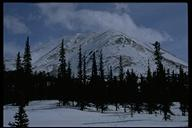cloud: (44, 7, 144, 24)
mountain: (69, 24, 151, 50)
snow: (36, 109, 79, 123)
tree: (148, 38, 169, 91), (12, 32, 36, 78)
